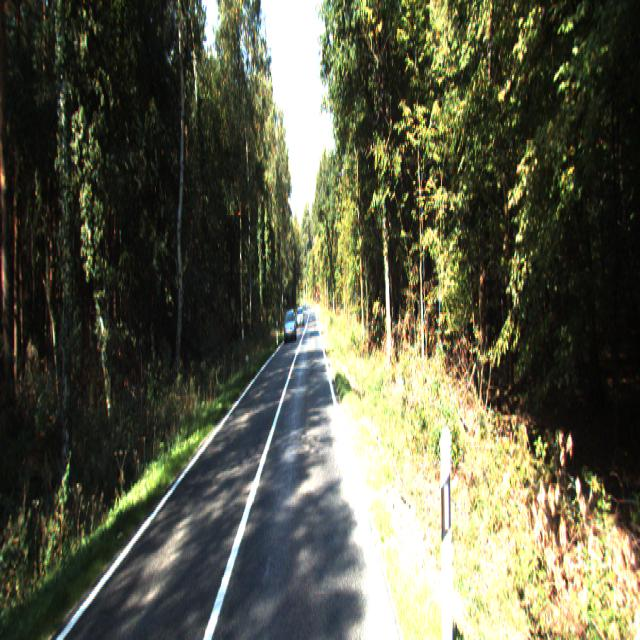Car: (284, 309, 298, 343)
